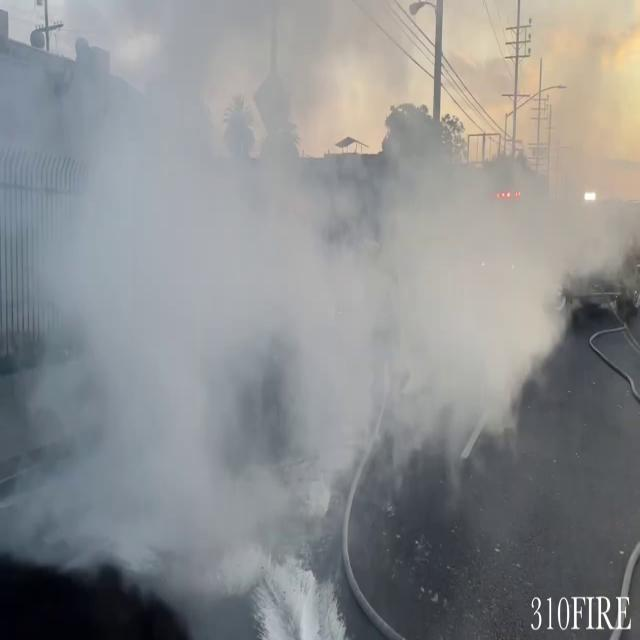Smoke: (1, 22, 628, 610)
